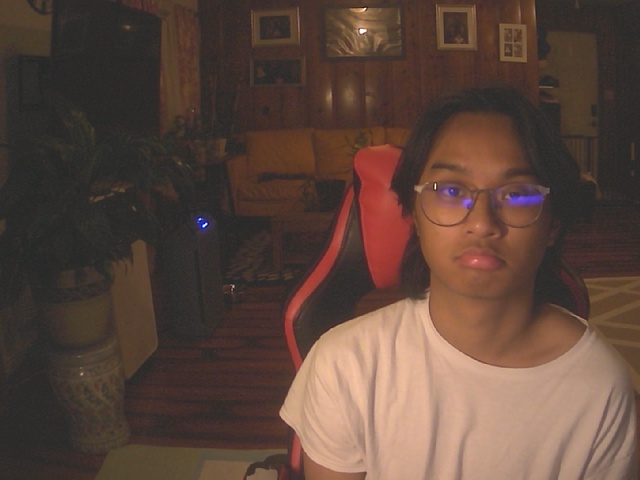sad: (390, 86, 578, 298)
